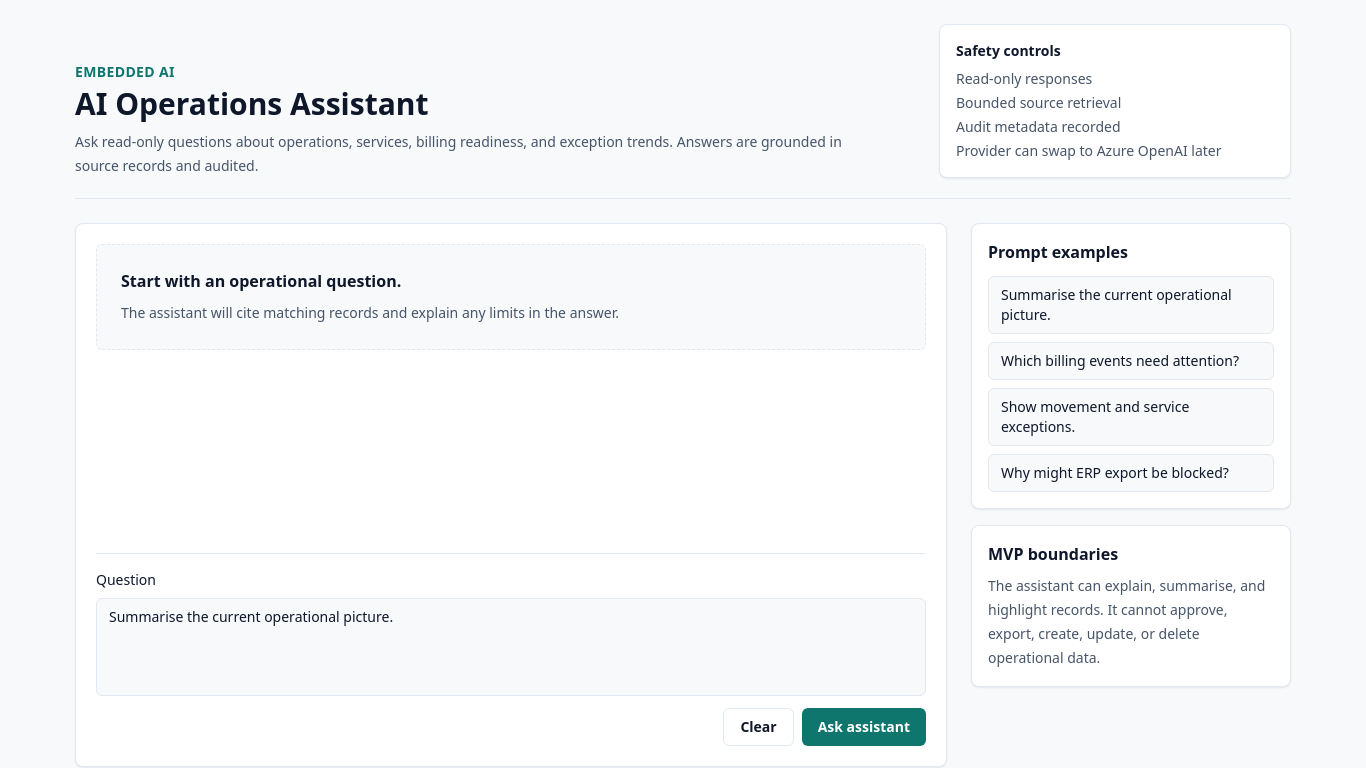
AiAssistantPage › submits a question and renders the sourced assistant answer
Replace the text in the text box labelled "Question" with "Which billing events need attention?" at (511, 647), box [96,598,926,696]
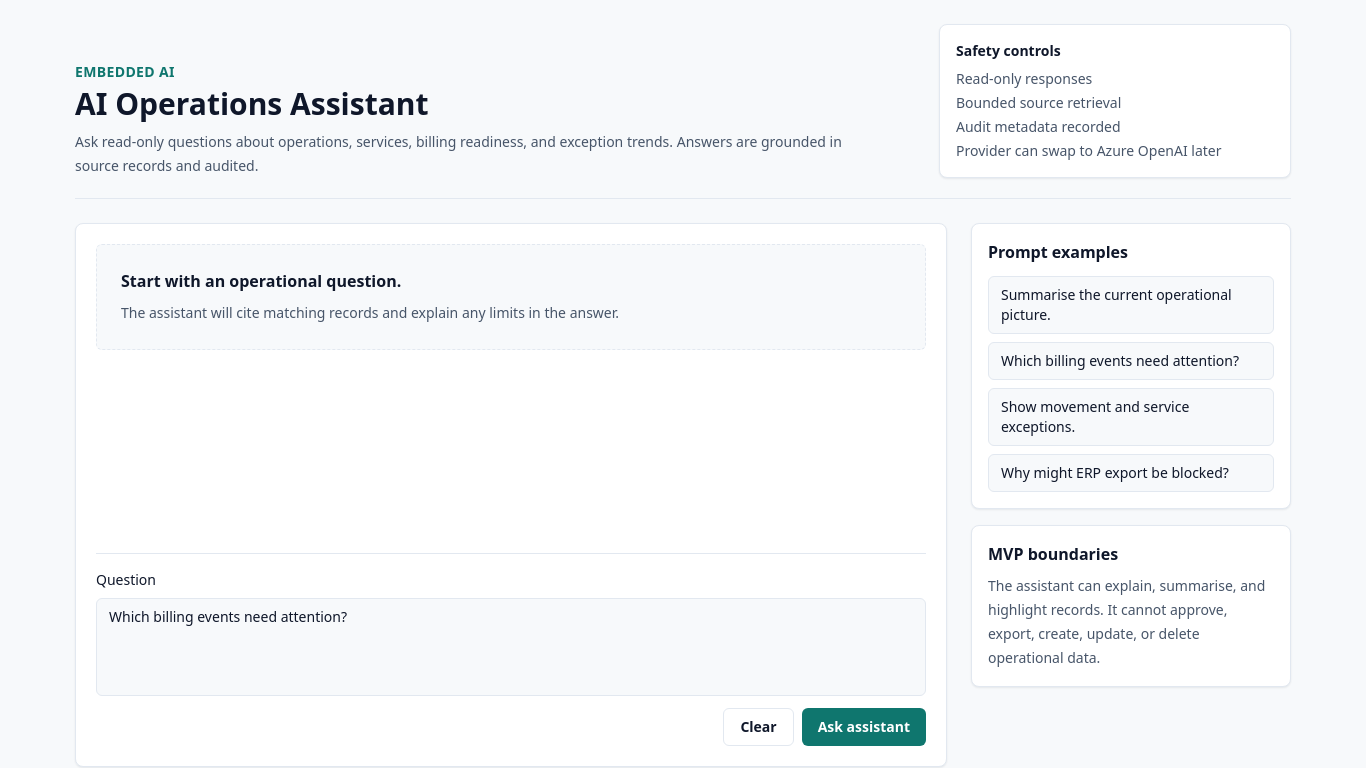
Click the button "Ask assistant" at (864, 727), box [802,708,926,746]
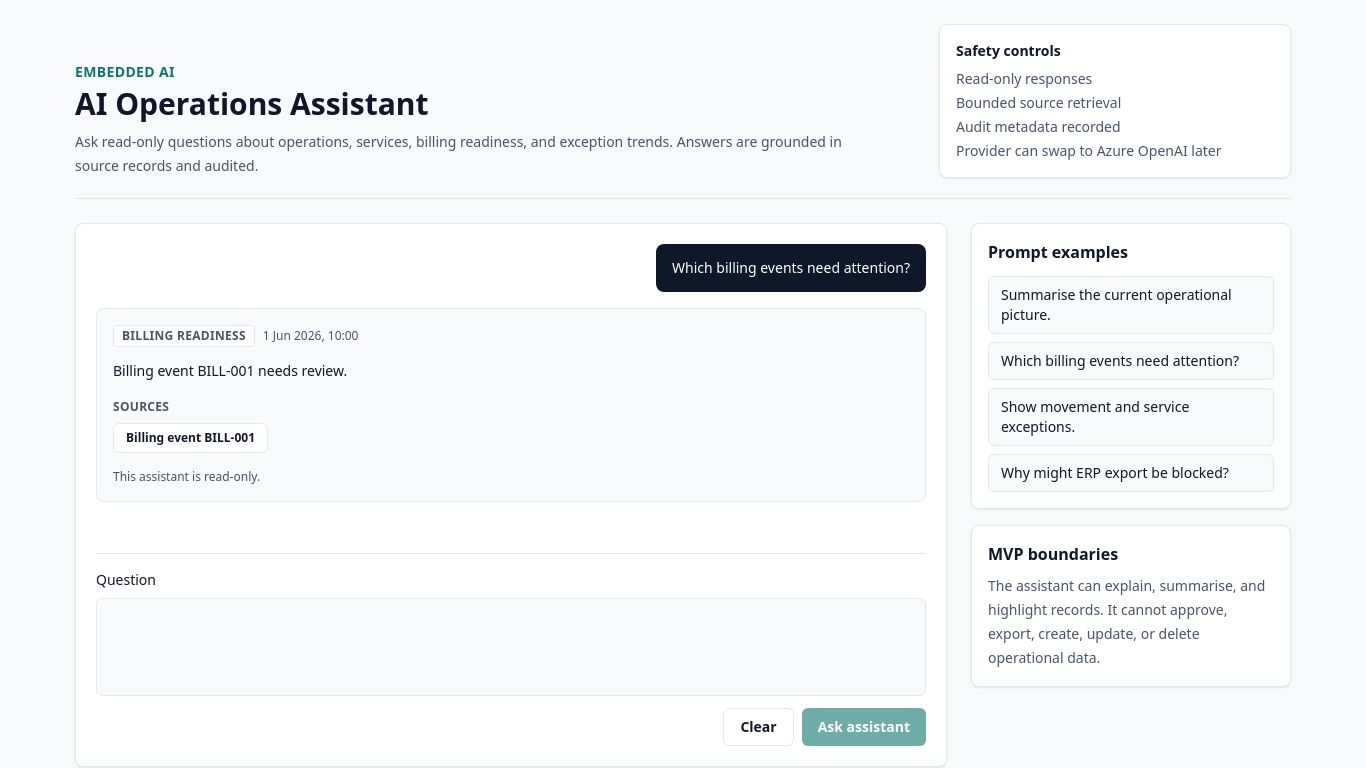
expect the text "Billing event BILL-001 needs review." is shown: met, box [113,361,347,380]
expect the text "billing readiness" is shown: met, box [113,325,255,347]
